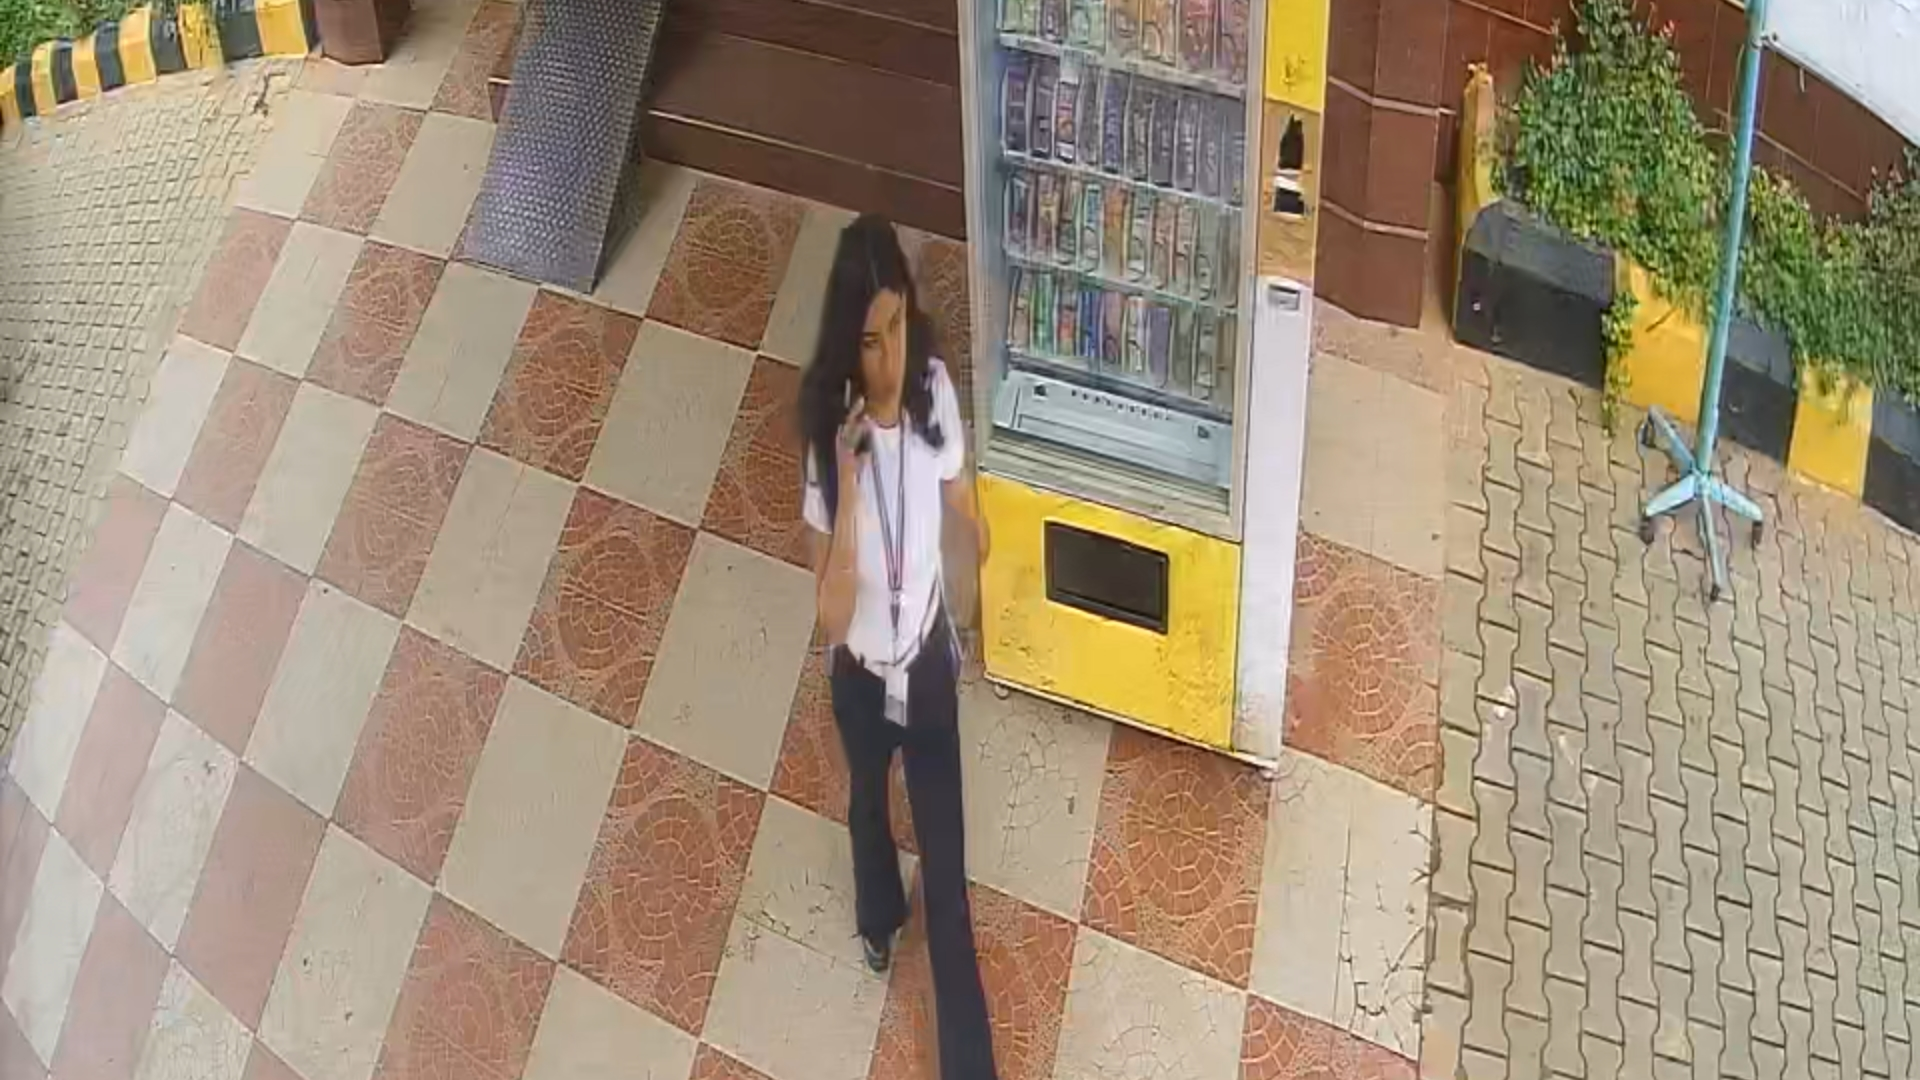not intruder: (804, 204, 1011, 1080)
